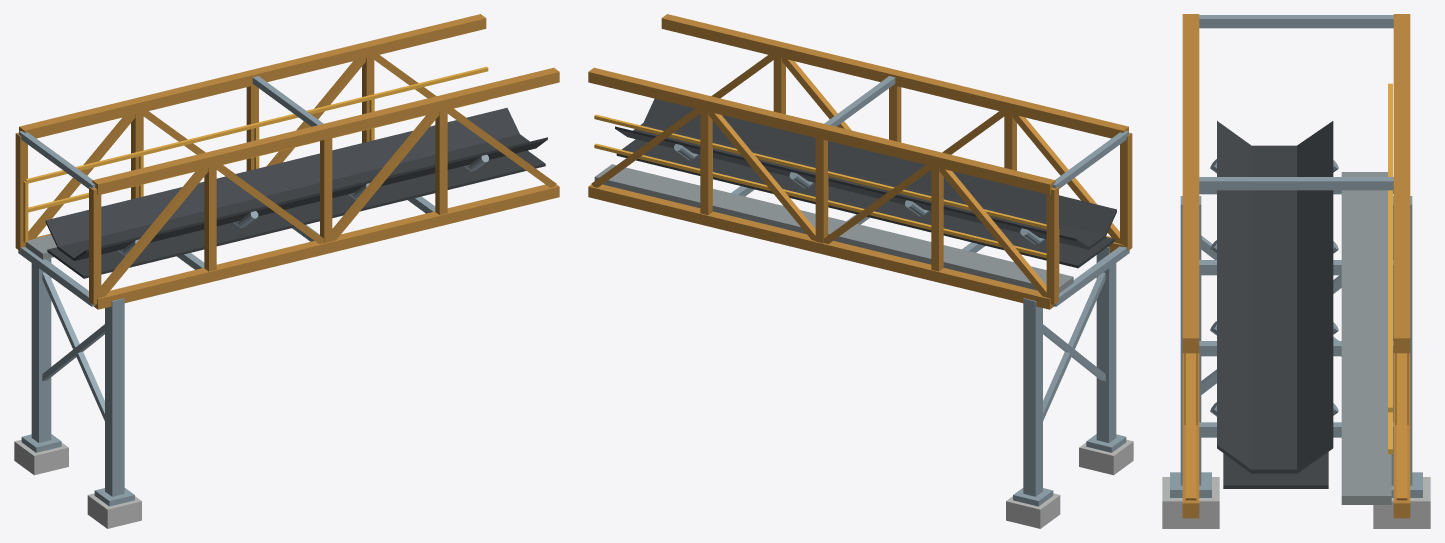
The model's file is gallery-bay.glb.
The picture shows the model from 3 angles, left to right: view 1: azimuth 30°, elevation 25°; view 2: azimuth 150°, elevation 25°; view 3: azimuth 270°, elevation 25°; orthographic projection. The views are drawn at different scales.
Parts seen in each view (by area): view 1: Truss_Ochre_structural_coating, Belt_Graphite_belt, Support_Galvanised_steel, Handrails_Safety_handrail, Crossframes_Galvanised_steel, Footings_Plinth_concrete, Footings_Galvanised_steel, Idlers_Galvanised_steel; view 2: Truss_Ochre_structural_coating, Belt_Graphite_belt, Support_Galvanised_steel, Walkway_Service_walkway, Handrails_Safety_handrail, Crossframes_Galvanised_steel, Footings_Plinth_concrete, Footings_Galvanised_steel, Idlers_Galvanised_steel; view 3: Belt_Graphite_belt, Truss_Ochre_structural_coating, Walkway_Service_walkway, Crossframes_Galvanised_steel, Support_Galvanised_steel, Footings_Plinth_concrete, Handrails_Safety_handrail, Footings_Galvanised_steel, Idlers_Galvanised_steel.
Boxes of the visible parts, x1,y1,x2,y2 form: Truss_Ochre_structural_coating: (15,14,559,309); Belt_Graphite_belt: (45,107,547,278); Support_Galvanised_steel: (31,258,124,496); Handrails_Safety_handrail: (23,66,488,242); Crossframes_Galvanised_steel: (18,76,435,306); Footings_Plinth_concrete: (14,439,141,528); Footings_Galvanised_steel: (21,434,134,506); Idlers_Galvanised_steel: (118,154,488,255); Truss_Ochre_structural_coating: (588,14,1132,309); Belt_Graphite_belt: (615,98,1116,268); Support_Galvanised_steel: (1023,247,1116,496); Walkway_Service_walkway: (594,164,1073,293); Handrails_Safety_handrail: (594,114,1059,289); Crossframes_Galvanised_steel: (731,76,1129,306); Footings_Plinth_concrete: (1006,439,1133,528); Footings_Galvanised_steel: (1013,434,1126,506); Idlers_Galvanised_steel: (674,144,1045,244); Belt_Graphite_belt: (1217,121,1333,488); Truss_Ochre_structural_coating: (1182,14,1410,518); Walkway_Service_walkway: (1341,172,1391,504); Crossframes_Galvanised_steel: (1199,15,1393,437); Support_Galvanised_steel: (1180,196,1412,485); Footings_Plinth_concrete: (1162,477,1430,528); Handrails_Safety_handrail: (1388,83,1392,454); Footings_Galvanised_steel: (1170,472,1422,497); Idlers_Galvanised_steel: (1210,159,1338,416).
Bounding box in the file's own units: 4.03 × 2.81 × 1.4.
